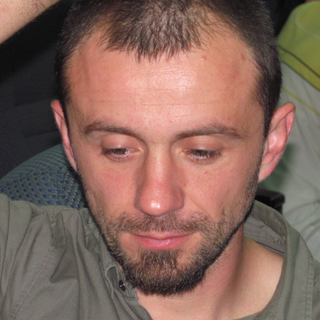eye: (175, 142, 224, 165), (96, 140, 142, 163)
